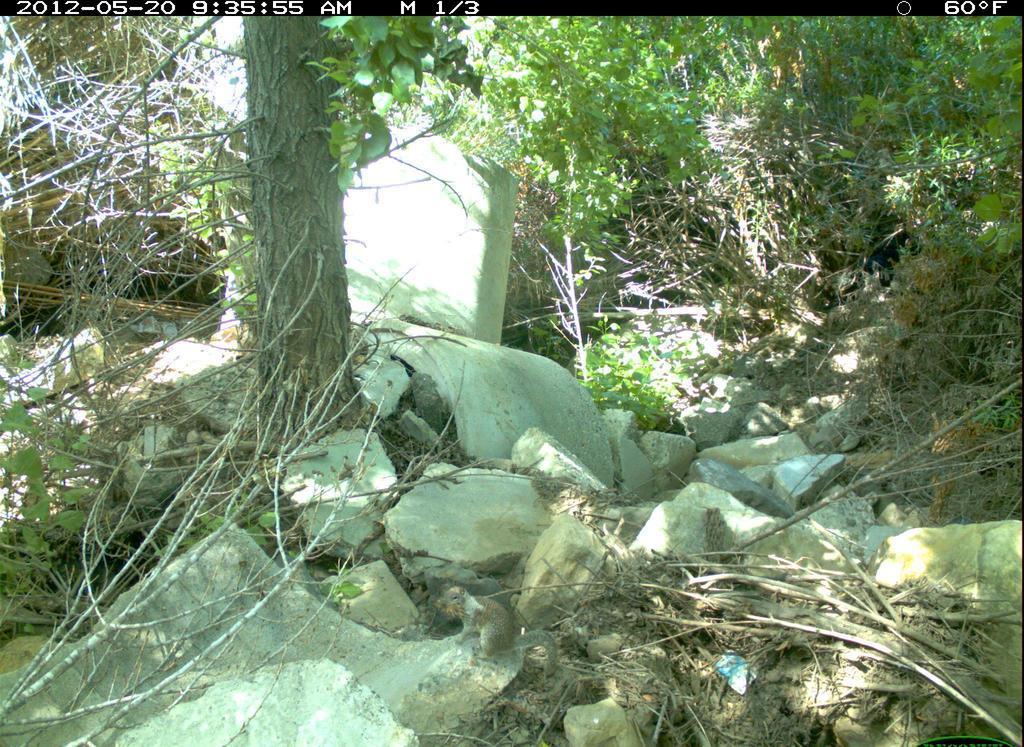squirrel: (434, 580, 566, 687)
